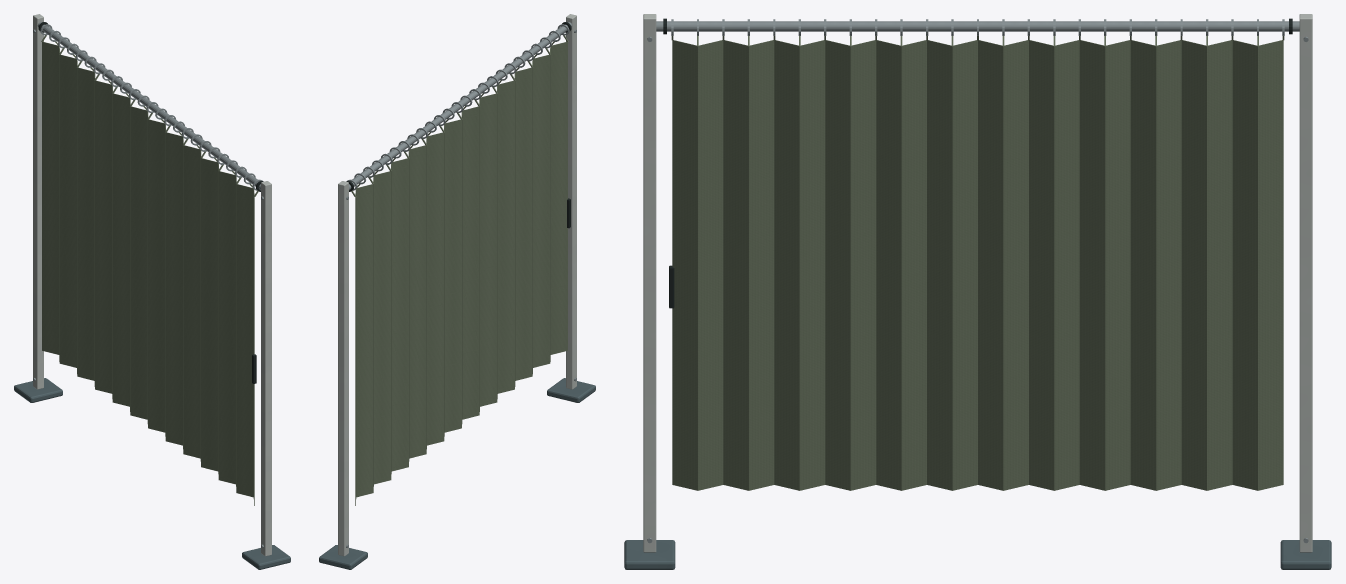
The model's file is AST-CRW-002.glb.
3 views of the same model, side by side, from view 1: azimuth 30°, elevation 25°; view 2: azimuth 150°, elevation 25°; view 3: azimuth 270°, elevation 25° (orthographic). The views are drawn at different scales.
Parts seen in each view (by area): view 1: AST-CRW-002__MOVING_crew_sage_privacy, AST-CRW-002__STATIC_staff_white_paint, AST-CRW-002__STATIC_staff_zinc, AST-CRW-002__STATIC_staff_bluegrey_paint, AST-CRW-002__MOVING_staff_zinc; view 2: AST-CRW-002__MOVING_crew_sage_privacy, AST-CRW-002__STATIC_staff_white_paint, AST-CRW-002__STATIC_staff_zinc, AST-CRW-002__STATIC_staff_bluegrey_paint, AST-CRW-002__MOVING_staff_zinc; view 3: AST-CRW-002__MOVING_crew_sage_privacy, AST-CRW-002__STATIC_staff_white_paint, AST-CRW-002__STATIC_staff_zinc, AST-CRW-002__STATIC_staff_bluegrey_paint, AST-CRW-002__MOVING_staff_zinc.
Boxes of the visible parts, x1,y1,x2,y2 form: AST-CRW-002__MOVING_crew_sage_privacy: [41, 35, 258, 505]; AST-CRW-002__STATIC_staff_white_paint: [33, 14, 271, 556]; AST-CRW-002__STATIC_staff_zinc: [33, 22, 263, 547]; AST-CRW-002__STATIC_staff_bluegrey_paint: [14, 378, 290, 569]; AST-CRW-002__MOVING_staff_zinc: [40, 24, 262, 190]; AST-CRW-002__MOVING_crew_sage_privacy: [351, 35, 568, 505]; AST-CRW-002__STATIC_staff_white_paint: [338, 14, 576, 556]; AST-CRW-002__STATIC_staff_zinc: [346, 22, 576, 547]; AST-CRW-002__STATIC_staff_bluegrey_paint: [319, 378, 595, 569]; AST-CRW-002__MOVING_staff_zinc: [347, 24, 569, 190]; AST-CRW-002__MOVING_crew_sage_privacy: [671, 36, 1284, 490]; AST-CRW-002__STATIC_staff_white_paint: [643, 14, 1312, 552]; AST-CRW-002__STATIC_staff_zinc: [647, 21, 1308, 543]; AST-CRW-002__STATIC_staff_bluegrey_paint: [624, 540, 1331, 569]; AST-CRW-002__MOVING_staff_zinc: [671, 19, 1284, 35].
Bounding box in the file's own units: 0.192 × 2.12 × 2.5.
5 materials, 5 textured.
